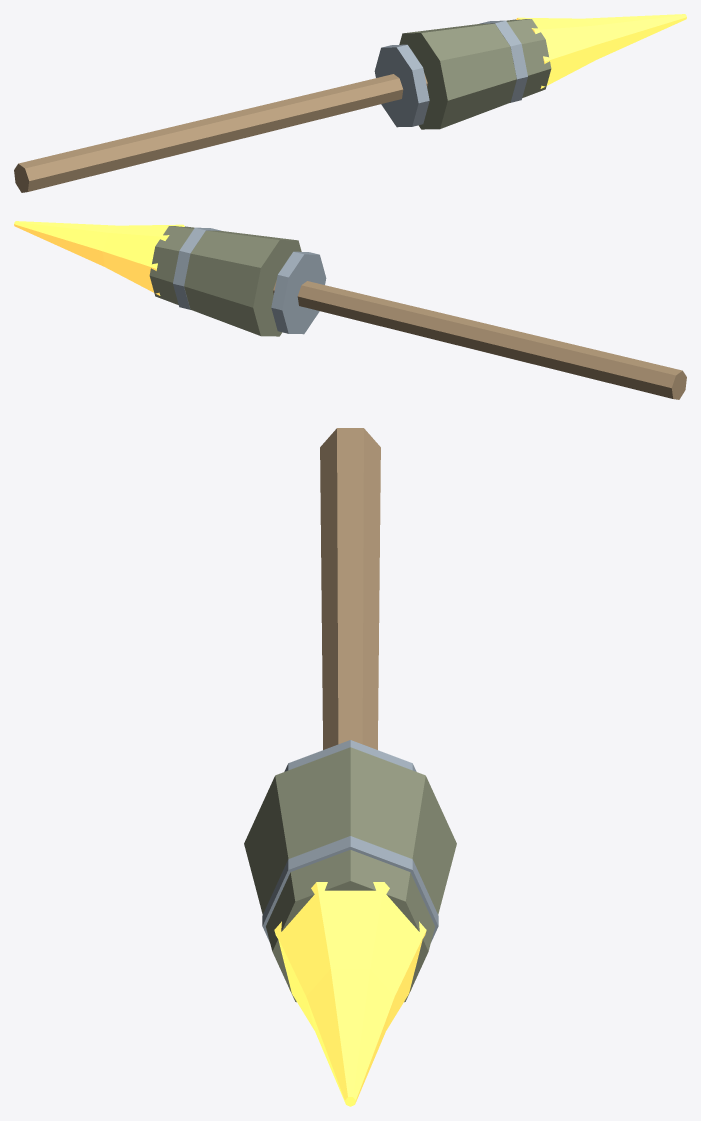
Rendered from wipe-day-survival-island-torch-605a18e1__27490.glb.
3 renders of one model, top to bottom at view 1: azimuth 30°, elevation 25°; view 2: azimuth 150°, elevation 25°; view 3: azimuth 270°, elevation 25°, orthographic. The views are drawn at different scales.
Visible parts, largest first — view 1: torch; view 2: torch; view 3: torch.
Boxes of the visible parts, x1=… form: torch: x1=14, y1=14, x2=686, y2=192; torch: x1=14, y1=221, x2=686, y2=399; torch: x1=244, y1=428, x2=456, y2=1106.
Size of the model in its own units: 1.08 by 0.15 by 0.15.
